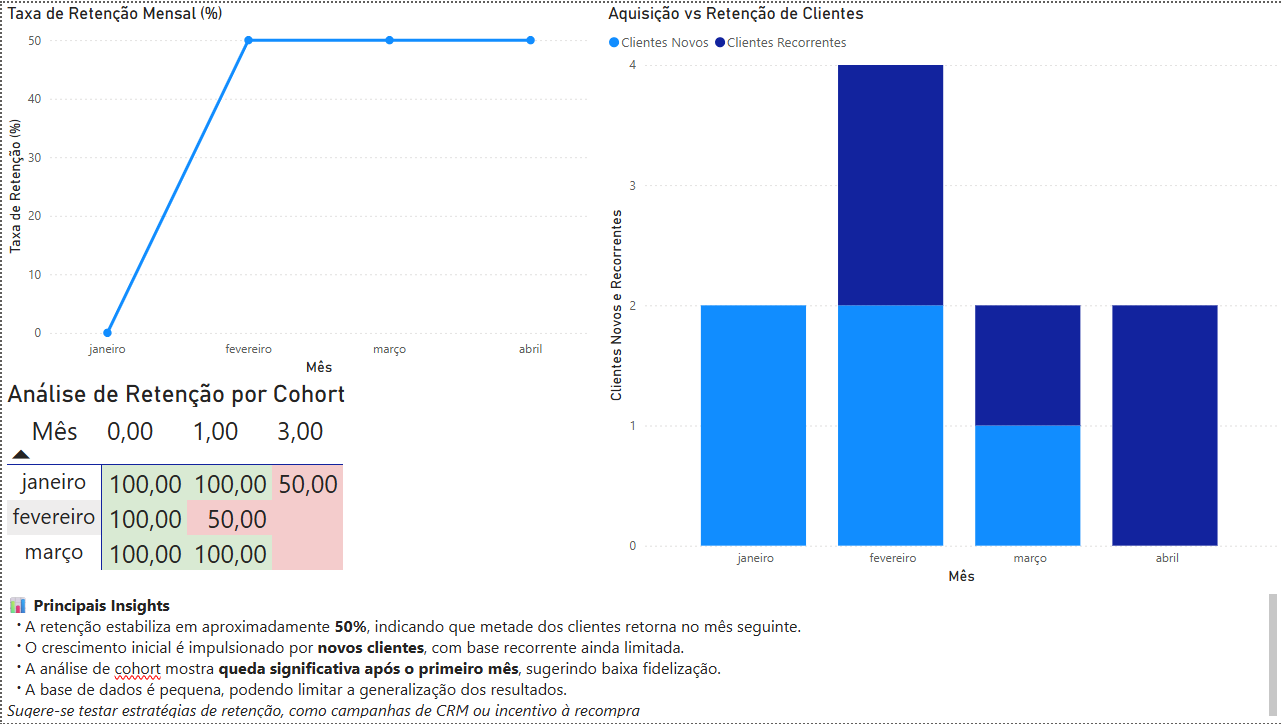

The dashboard page shown, as its layout file describes it:
{"tool":"powerbi","page":{"name":"Análise de Retenção e Comportamento de Clientes","canvas":[1280,720],"ordinal":0},"visuals":[{"type":"lineChart","title":"Taxa de Retenção Mensal (%)","fields":{"Category":["customer_analysis vw_retencao_mensal.mes.Variation.Hierarquia de datas.Mês"],"Y":["Avg(customer_analysis vw_retencao_mensal.taxa_retencao_pct)"]},"box":[0,0,590,376.7],"z":0},{"type":"columnChart","title":"Aquisição vs Retenção de Clientes","fields":{"Category":["customer_analysis vw_novos_vs_recorrentes.mes.Variation.Hierarquia de datas.Mês"],"Y":["Sum(customer_analysis vw_novos_vs_recorrentes.clientes_novos)","Sum(customer_analysis vw_novos_vs_recorrentes.clientes_recorrentes)"]},"box":[601.1,0,678.9,585.6],"z":1000},{"type":"pivotTable","title":"Análise de Retenção por Cohort","fields":{"Rows":["customer_analysis vw_cohort_retencao.cohort_mes.Variation.Hierarquia de datas.Mês"],"Values":["Avg(customer_analysis vw_cohort_retencao.taxa_retencao_pct)"],"Columns":["customer_analysis vw_cohort_retencao.indice_mes"]},"box":[0,376.7,590,208.9],"z":2000},{"type":"textbox","box":[0,585.6,1280,134.4],"z":3000}]}

Visuals, with their boxes in screenshot pixels (x1, y1, x2, y2), scaled from the page's 1280x720 canvas onto the 1282x724 screenshot:
"Taxa de Retenção Mensal (%)" lineChart: pyautogui.locateOnScreen(0, 0, 591, 379)
"Aquisição vs Retenção de Clientes" columnChart: pyautogui.locateOnScreen(602, 0, 1281, 589)
"Análise de Retenção por Cohort" pivotTable: pyautogui.locateOnScreen(0, 379, 591, 589)
textbox: pyautogui.locateOnScreen(0, 589, 1281, 723)
